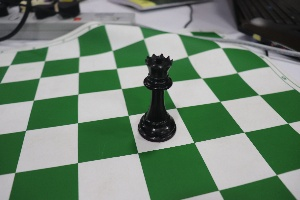black_queen: (135, 45, 181, 143)
